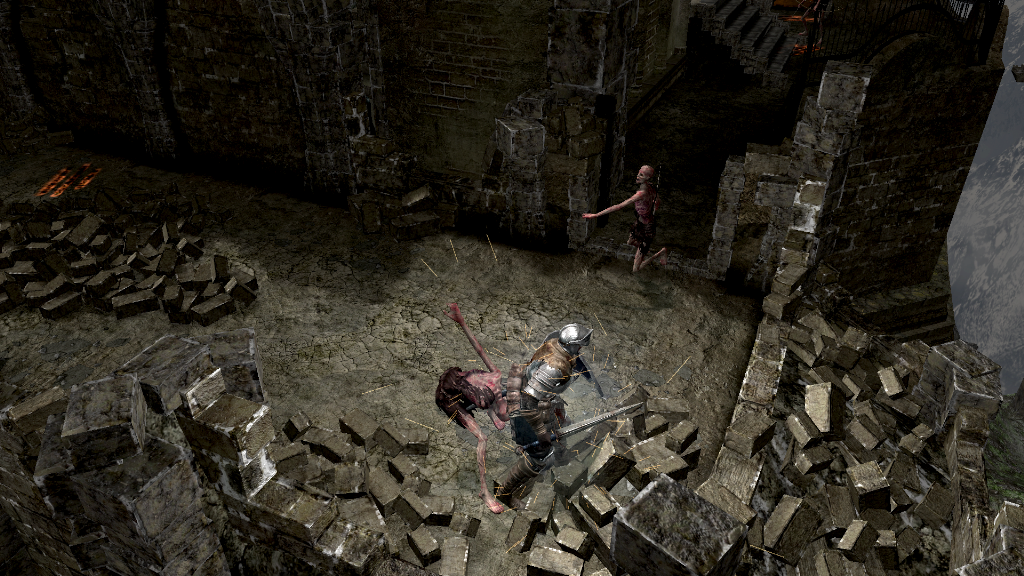hollow: (436, 300, 508, 517), (580, 161, 668, 273), (799, 1, 825, 51)
player: (507, 322, 647, 507)
